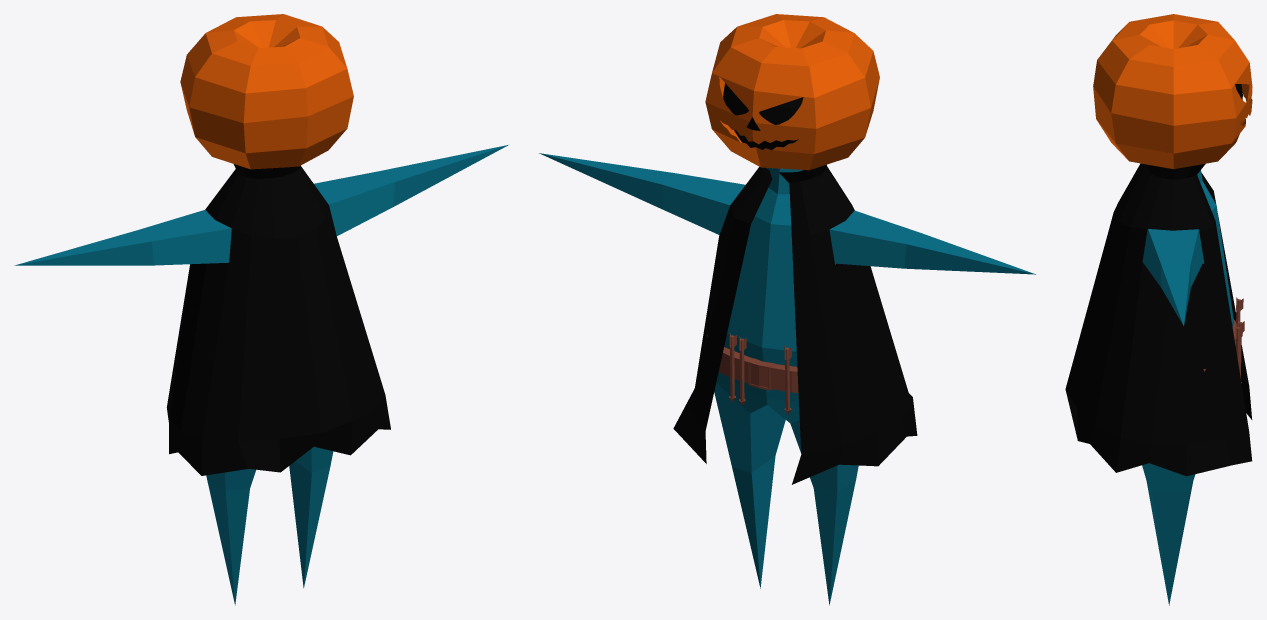
File: Hero.fbx
3 renders of one model, left to right at view 1: azimuth 30°, elevation 25°; view 2: azimuth 150°, elevation 25°; view 3: azimuth 270°, elevation 25°, orthographic.
Visible parts, largest first — view 1: Тело; view 2: Тело; view 3: Тело.
Part boxes in pixels (x1,y1,x2,y2): Тело: [14, 14, 508, 605]; Тело: [539, 14, 1035, 605]; Тело: [1065, 14, 1252, 605].
Bounding box in the file's own units: 457 × 496 × 152.
